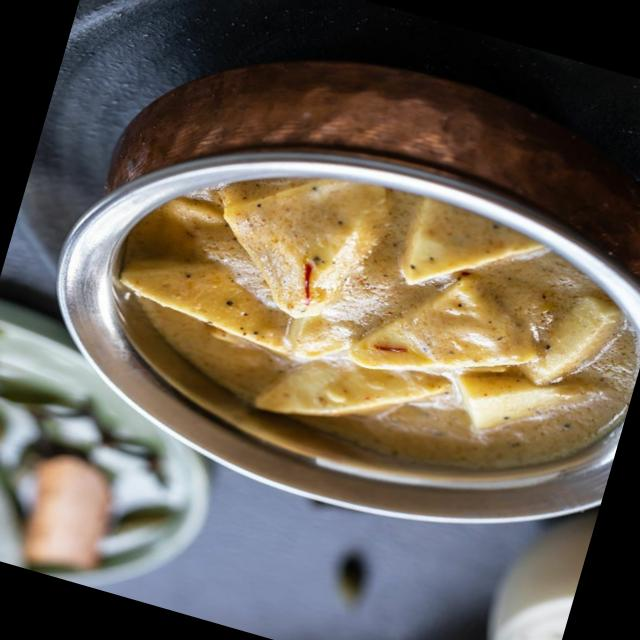ShahiPaneer: (81, 120, 640, 526)
